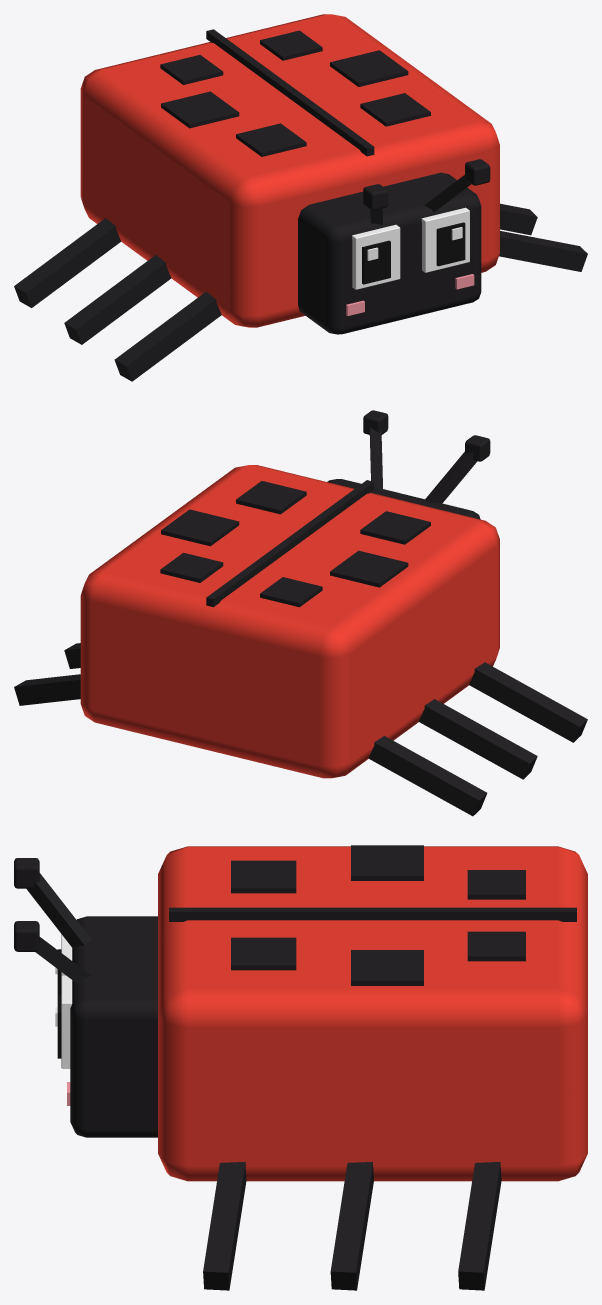
File: ladybug.glb
3 renders of one model, top to bottom at view 1: azimuth 30°, elevation 25°; view 2: azimuth 150°, elevation 25°; view 3: azimuth 270°, elevation 25°, orthographic. The views are drawn at different scales.
Visible parts, largest first — view 1: Node; view 2: Node; view 3: Node.
Part boxes in pixels (box(x1,y1,x2,y2)): Node: box(14, 14, 587, 381); Node: box(14, 410, 587, 816); Node: box(14, 845, 587, 1290).
Bounding box in the file's own units: 1.31 × 0.5438 × 1.1.
Materials: 1 (1 with a texture image).
